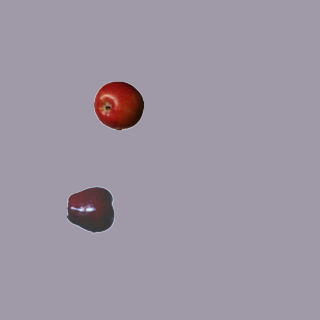Apple Braeburn: (93, 80, 143, 130)
Apple Red Delicious: (66, 184, 116, 234)
